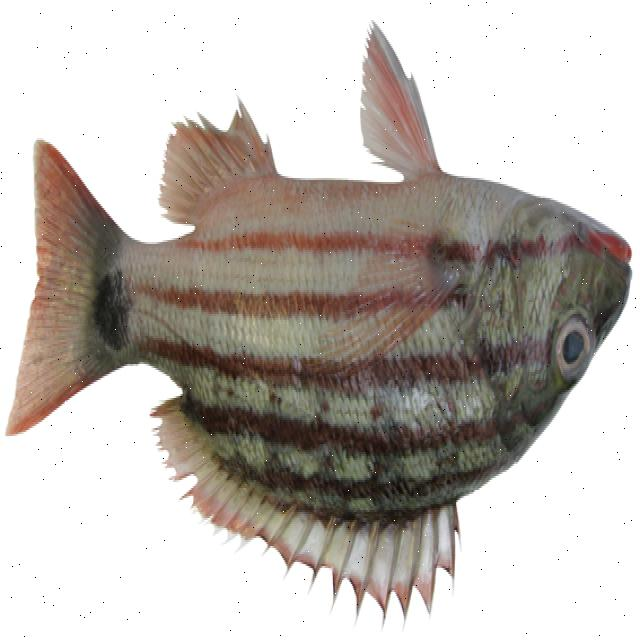ikan: (6, 22, 634, 630)
